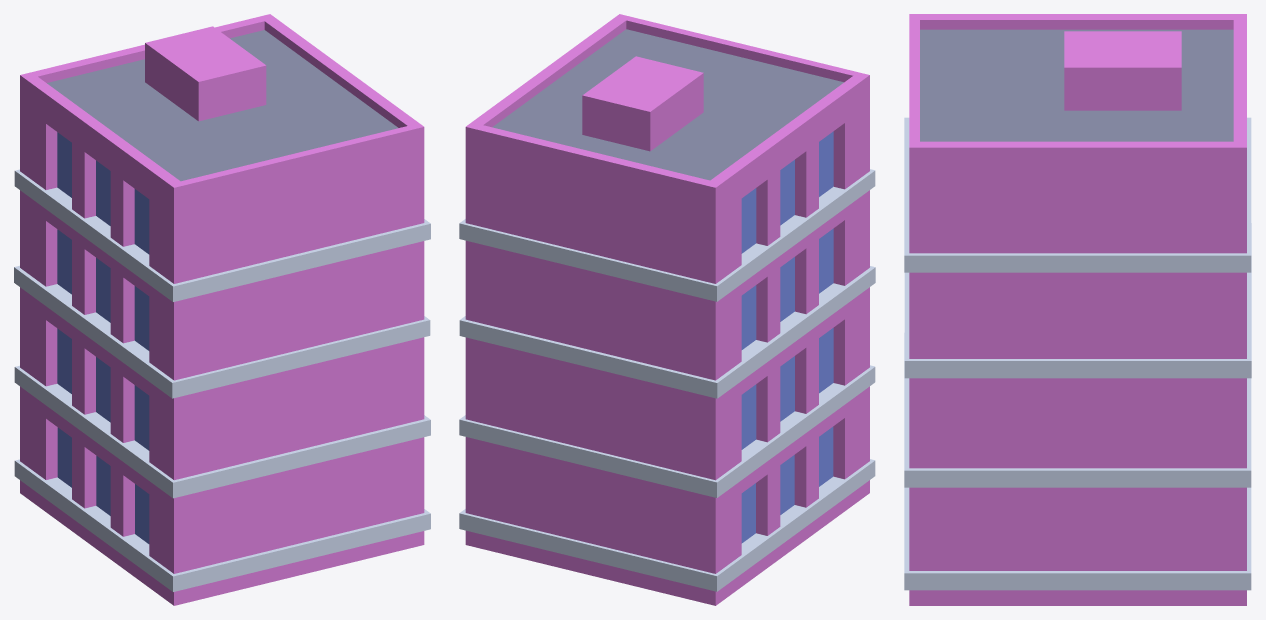
Rendered from House 5.fbx.
3 views of the same model, side by side, from view 1: azimuth 30°, elevation 25°; view 2: azimuth 150°, elevation 25°; view 3: azimuth 270°, elevation 25° (orthographic). The views are drawn at different scales.
Parts seen in each view (by area): view 1: House 5; view 2: House 5; view 3: House 5.
Boxes of the visible parts, x1,y1,x2,y2 form: House 5: [14, 14, 430, 605]; House 5: [459, 14, 875, 605]; House 5: [904, 14, 1251, 605].
Size of the model in its own units: 1157 by 1920 by 1230.
1 material, 1 textured.
